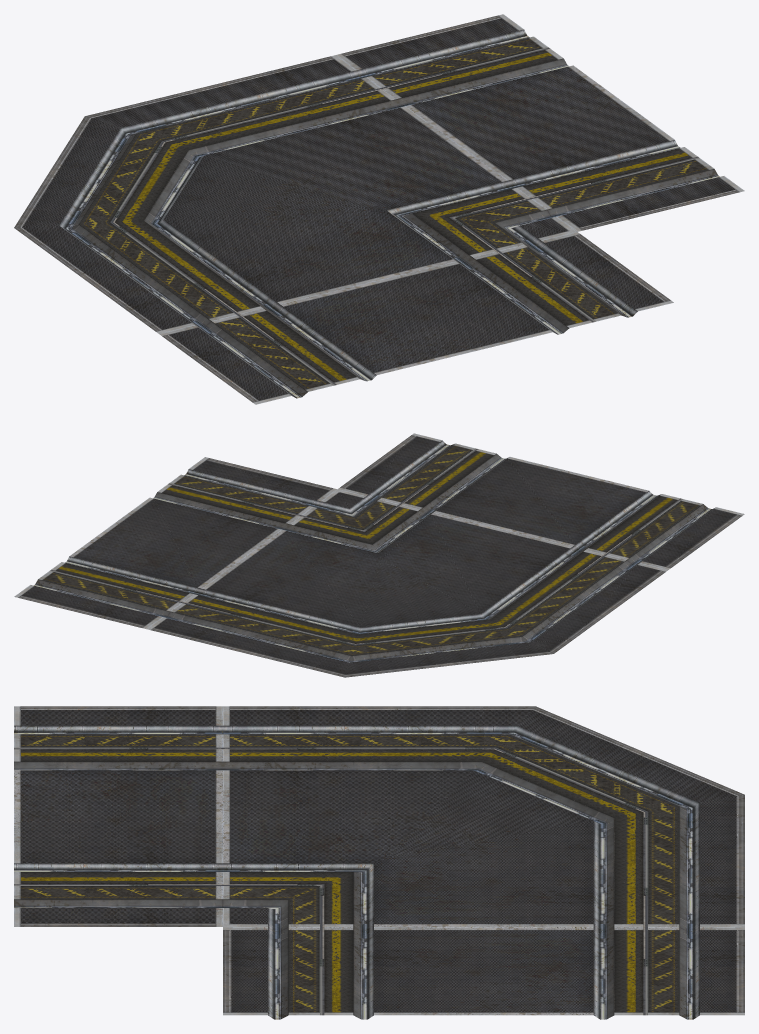
The model's file is Floor_C_5mts_01.fbx.
3 views of the same model, one above another, from view 1: azimuth 30°, elevation 25°; view 2: azimuth 150°, elevation 25°; view 3: azimuth 270°, elevation 25° (orthographic). The views are drawn at different scales.
Visible parts, largest first — view 1: Floor_C_5mts_01; view 2: Floor_C_5mts_01; view 3: Floor_C_5mts_01.
Boxes of the visible parts, bbox=[...] form: Floor_C_5mts_01: bbox=[14, 14, 744, 404]; Floor_C_5mts_01: bbox=[14, 433, 744, 677]; Floor_C_5mts_01: bbox=[14, 706, 744, 1019].
Bounding box in the file's own units: 700 × 4.33 × 700.
Materials: 1 (1 with a texture image).
